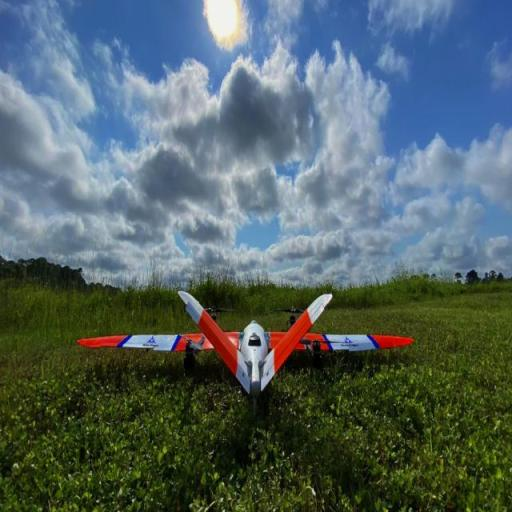uav: (73, 278, 415, 414)
